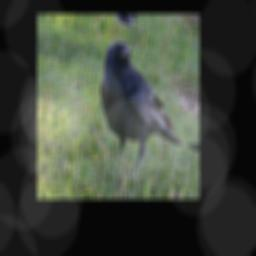Crow: (88, 35, 197, 185)
